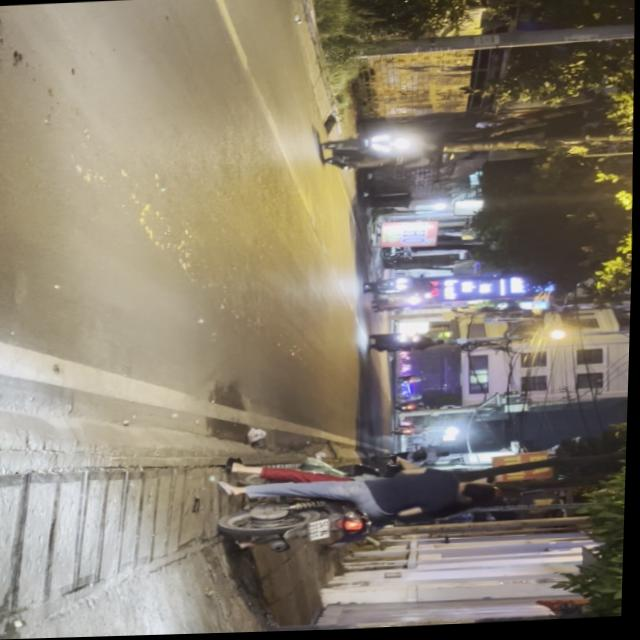licenseplate: (215, 452, 521, 557)
motorcyclist: (459, 482, 505, 510)
nohelmet: (311, 521, 334, 542)
